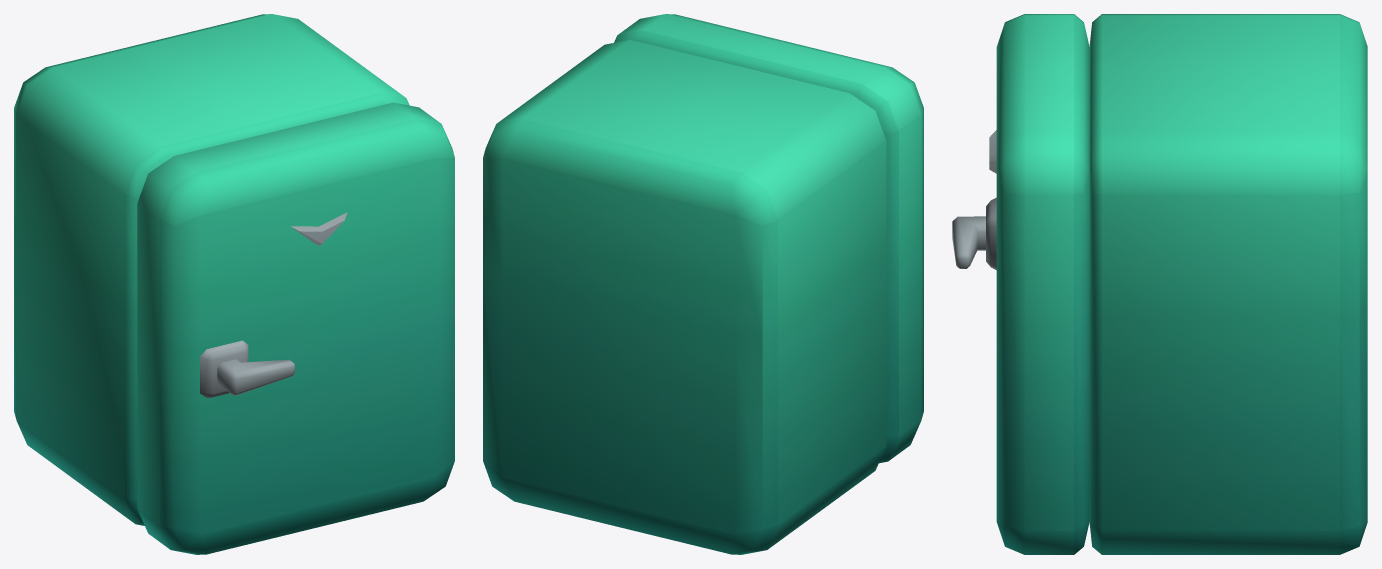
Rendered from kay-geladeira-b.gltf.
3 views of the same model, side by side, from view 1: azimuth 30°, elevation 25°; view 2: azimuth 150°, elevation 25°; view 3: azimuth 270°, elevation 25° (orthographic). The views are drawn at different scales.
Visible parts, largest first — view 1: fridge_B; view 2: fridge_B; view 3: fridge_B.
Part boxes in pixels (x1=…): fridge_B: x1=14, y1=14, x2=454, y2=554; fridge_B: x1=483, y1=14, x2=923, y2=554; fridge_B: x1=952, y1=14, x2=1367, y2=554.
Bounding box in the file's own units: 1.3 × 1.62 × 1.46.
1 material, 1 textured.
